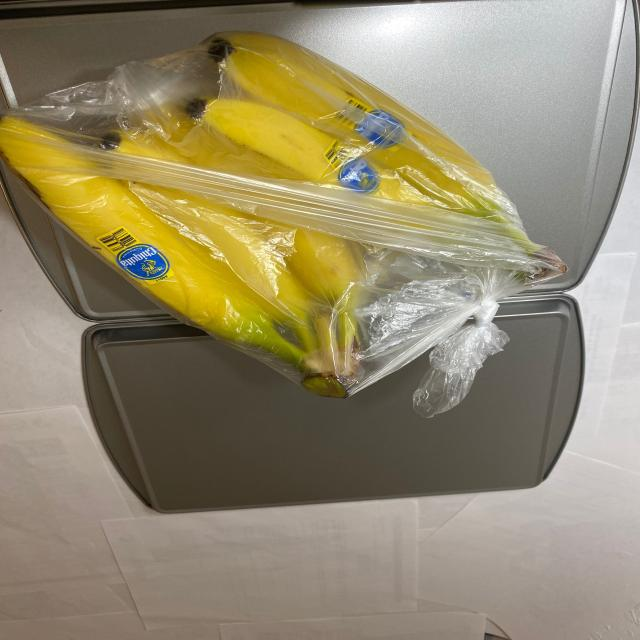banana: (9, 33, 569, 404)
